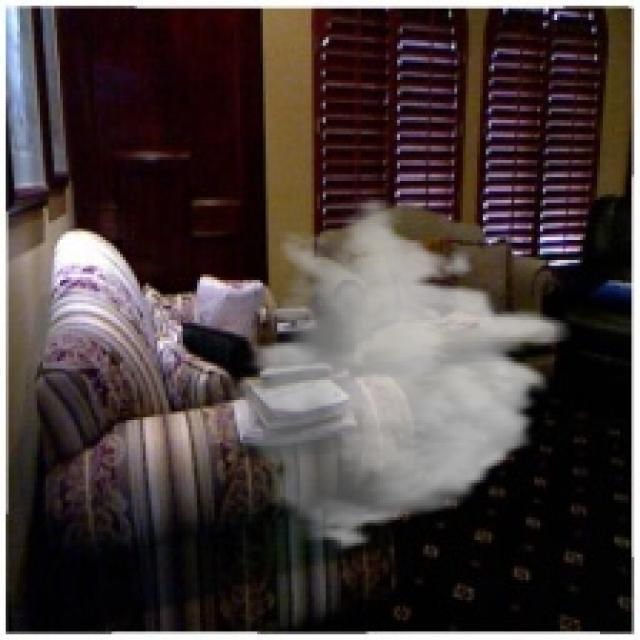Smoke: (212, 194, 574, 552)
